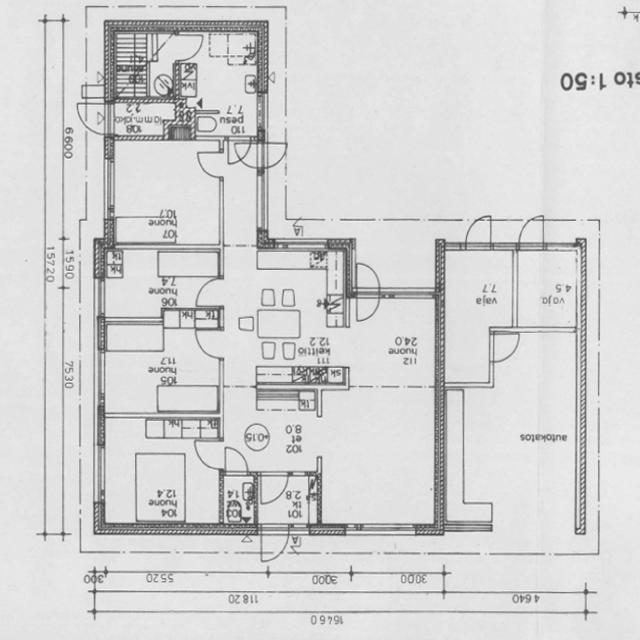door: (99, 416, 222, 528), (220, 471, 258, 529), (352, 258, 383, 327), (256, 522, 293, 566), (484, 328, 524, 367), (75, 97, 114, 136), (191, 275, 227, 310), (462, 213, 494, 252), (194, 146, 228, 182), (257, 470, 290, 507), (516, 212, 546, 251), (226, 138, 262, 170), (253, 140, 290, 170), (176, 31, 205, 63)
window: (342, 518, 421, 541), (100, 151, 120, 218), (439, 516, 494, 540), (270, 235, 328, 257), (253, 170, 271, 232), (92, 438, 109, 502), (379, 285, 436, 303), (93, 340, 109, 403), (90, 274, 110, 320), (215, 176, 227, 242), (254, 91, 270, 132), (542, 239, 578, 253), (491, 240, 518, 254), (443, 238, 468, 252)
zone: (440, 323, 582, 544), (224, 248, 349, 390), (320, 387, 440, 529), (98, 418, 220, 530), (101, 316, 222, 418), (109, 141, 221, 248), (440, 246, 508, 385), (180, 30, 262, 138), (101, 247, 224, 318), (221, 386, 321, 471), (350, 295, 438, 388), (514, 247, 582, 330), (110, 98, 187, 138), (110, 26, 150, 98), (150, 32, 178, 98), (190, 323, 228, 362), (256, 469, 291, 507), (192, 437, 226, 473), (221, 444, 250, 478)
